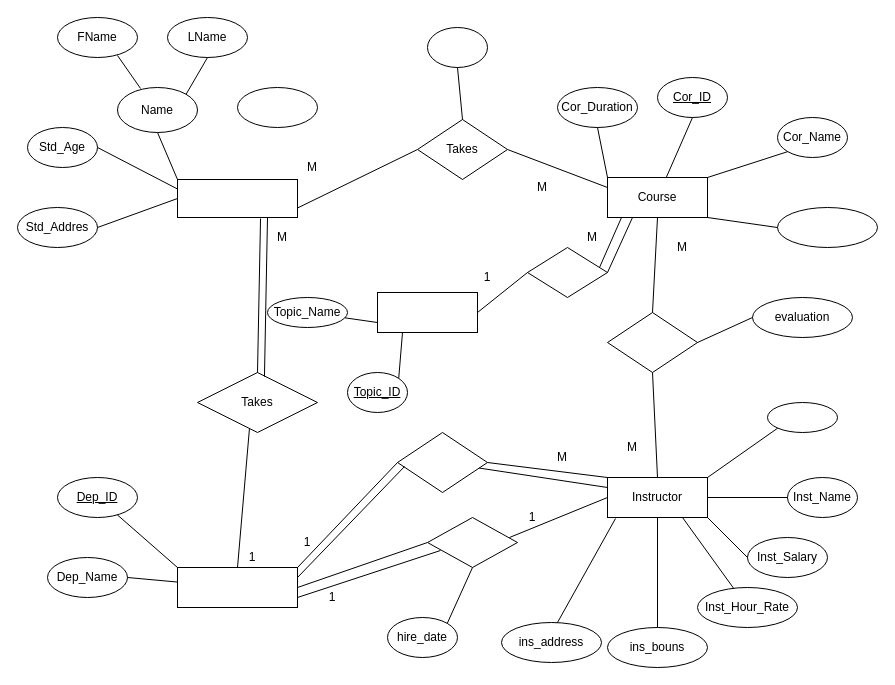
The diagram is 895 pixels wide and 685 high, and some of its shapes have lost their labels. Each missing label, with the box of its shape:
Classified: (526, 246, 608, 298)
Contains: (396, 432, 488, 492)
Cor_Describtion: (776, 206, 878, 248)
Department: (176, 566, 298, 608)
Grades: (426, 26, 488, 68)
Inst_ID: (766, 402, 838, 432)
Manger: (426, 516, 518, 568)
Std_ID: (236, 86, 318, 128)
Student: (176, 178, 298, 218)
teach: (606, 312, 698, 372)
Topic: (376, 292, 478, 332)
